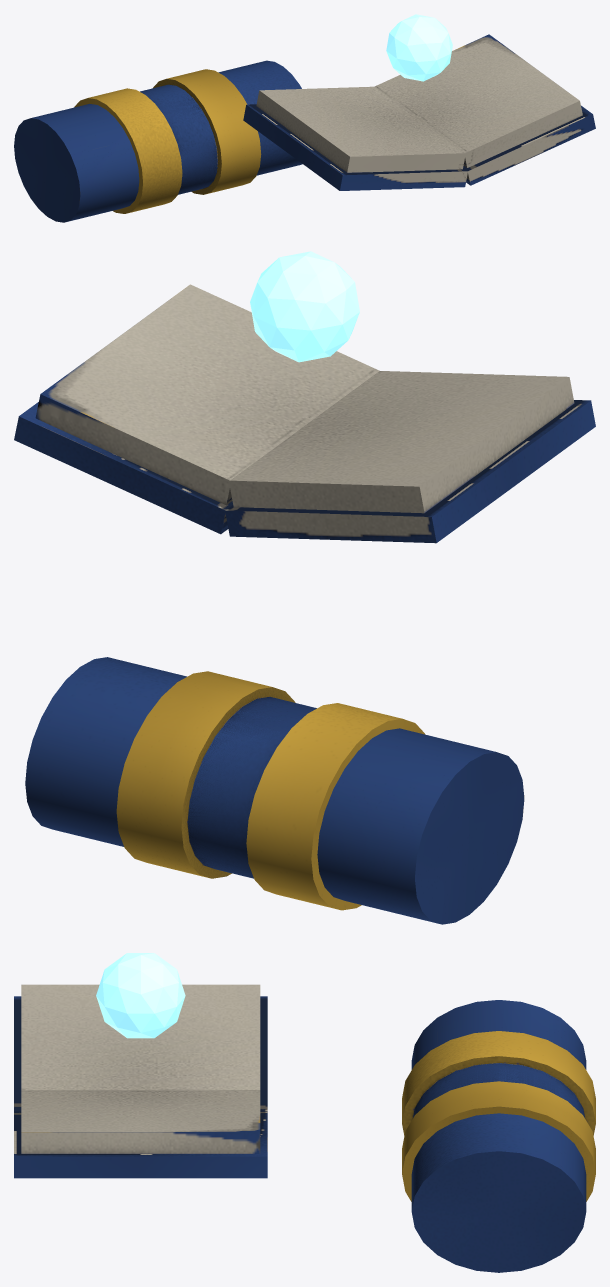
The model's file is npc_arcanista.glb.
3 views of the same model, one above another, from view 1: azimuth 30°, elevation 25°; view 2: azimuth 150°, elevation 25°; view 3: azimuth 270°, elevation 25° (orthographic). The views are drawn at different scales.
Visible parts, largest first — view 1: arcanista_LeftHand_peca, arcanista_RightHand_peca; view 2: arcanista_LeftHand_peca, arcanista_RightHand_peca; view 3: arcanista_LeftHand_peca, arcanista_RightHand_peca.
Part boxes in pixels (box(x1,y1,x2,y2)): arcanista_LeftHand_peca: box(74, 14, 595, 213); arcanista_RightHand_peca: box(14, 69, 261, 222); arcanista_LeftHand_peca: box(14, 251, 595, 910); arcanista_RightHand_peca: box(116, 671, 524, 924); arcanista_LeftHand_peca: box(14, 953, 595, 1272); arcanista_RightHand_peca: box(402, 1000, 595, 1201).
Bounding box in the file's own units: 0.3702 × 0.24 × 0.39.
3 materials, 2 textured.
